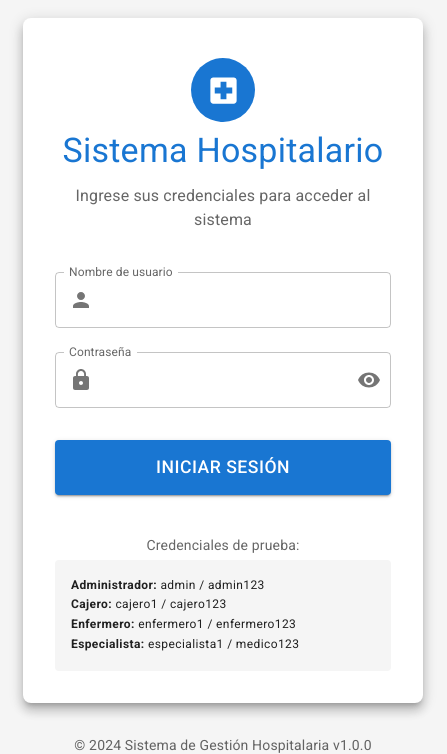
Scenario: Login Component › shows validation errors for empty fields
Click the button "Iniciar Sesión" at (223, 467), box [55,440,391,495]
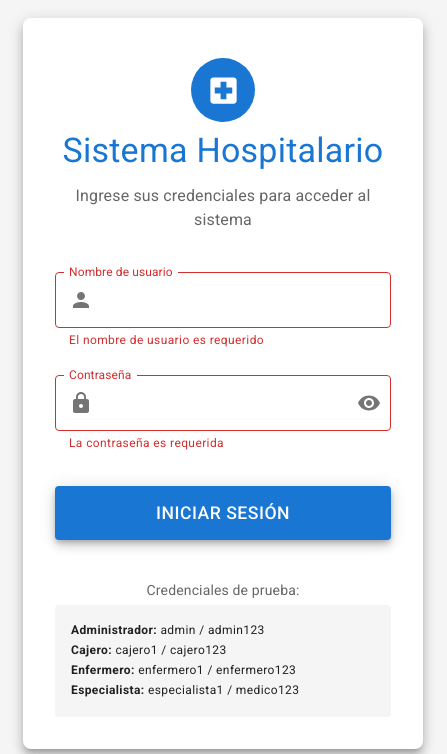
Check: the text "El nombre de usuario es requerido" is shown, box [69,333,264,347]
Check: the text "La contraseña es requerida" is shown, box [69,436,224,450]
